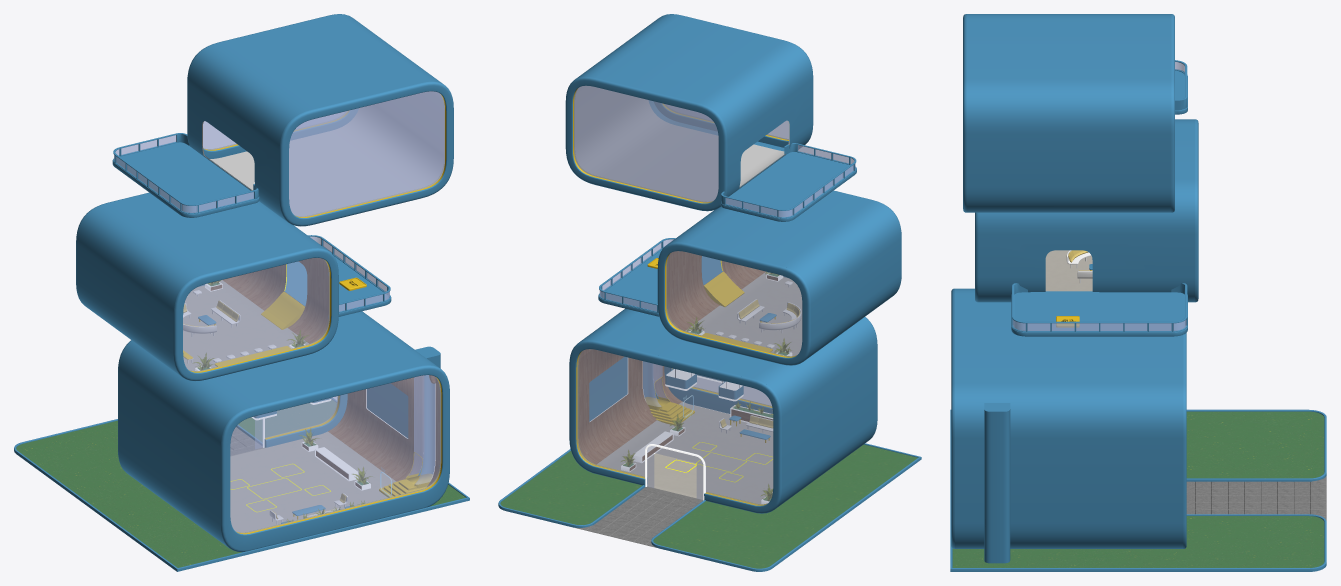
The model's file is UPS_MainGeo.glb.
3 renders of one model, left to right at view 1: azimuth 30°, elevation 25°; view 2: azimuth 150°, elevation 25°; view 3: azimuth 270°, elevation 25°, orthographic. The views are drawn at different scales.
Parts seen in each view (by area): view 1: Box076, Box070, Box059, Box556, Box084, Box087, Box060, Line2296, Box670, Box342, Line2290, Line2335 (+18 smaller); view 2: Box038, Box076, Box059, Line2296, Box556, Box058, Box065, Box060, Box047, Box342, Line2335, Box081 (+18 smaller); view 3: Box076, Box059, Line2296, Box556, Line2292, Box368, Line2294, Box560, Line2306, Line2290, Line2287, Box064 (+11 smaller).
Part boxes in pixels (x1=…): Box076: x1=118, y1=311, x2=439, y2=546; Box070: x1=230, y1=375, x2=441, y2=533; Box059: x1=187, y1=14, x2=443, y2=221; Box556: x1=76, y1=193, x2=328, y2=375; Box084: x1=289, y1=91, x2=444, y2=216; Box087: x1=289, y1=91, x2=444, y2=217; Box060: x1=202, y1=91, x2=443, y2=215; Line2296: x1=16, y1=400, x2=465, y2=567; Box670: x1=183, y1=258, x2=329, y2=371; Box342: x1=230, y1=431, x2=395, y2=532; Line2290: x1=221, y1=365, x2=449, y2=552; Line2335: x1=112, y1=133, x2=259, y2=217; Box038: x1=577, y1=349, x2=773, y2=505; Box076: x1=579, y1=308, x2=876, y2=508; Box059: x1=575, y1=14, x2=812, y2=196; Line2296: x1=500, y1=444, x2=917, y2=568; Box556: x1=667, y1=191, x2=901, y2=360; Box058: x1=574, y1=86, x2=718, y2=202; Box065: x1=574, y1=86, x2=718, y2=202; Box060: x1=575, y1=86, x2=789, y2=201; Box047: x1=666, y1=251, x2=802, y2=356; Box342: x1=597, y1=402, x2=773, y2=504; Line2335: x1=720, y1=143, x2=856, y2=221; Box081: x1=578, y1=349, x2=682, y2=464; Box076: x1=955, y1=288, x2=1183, y2=548; Box059: x1=966, y1=14, x2=1171, y2=212; Line2296: x1=952, y1=411, x2=1324, y2=567; Box556: x1=978, y1=119, x2=1194, y2=302; Line2292: x1=1011, y1=283, x2=1187, y2=336; Box368: x1=984, y1=409, x2=1010, y2=563; Line2294: x1=950, y1=409, x2=1326, y2=571; Box560: x1=1045, y1=250, x2=1092, y2=291; Line2306: x1=1012, y1=319, x2=1186, y2=330; Line2290: x1=951, y1=288, x2=954, y2=548; Line2287: x1=1183, y1=333, x2=1186, y2=548; Box064: x1=1171, y1=14, x2=1174, y2=212.
Size of the model in its own units: 32 by 44.1 by 32.
Materials: 17 (8 with a texture image).
